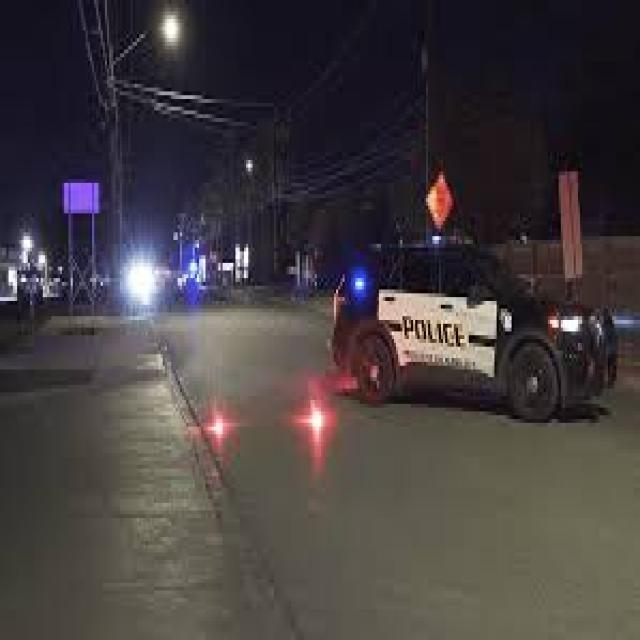cop: (330, 236, 621, 424)
